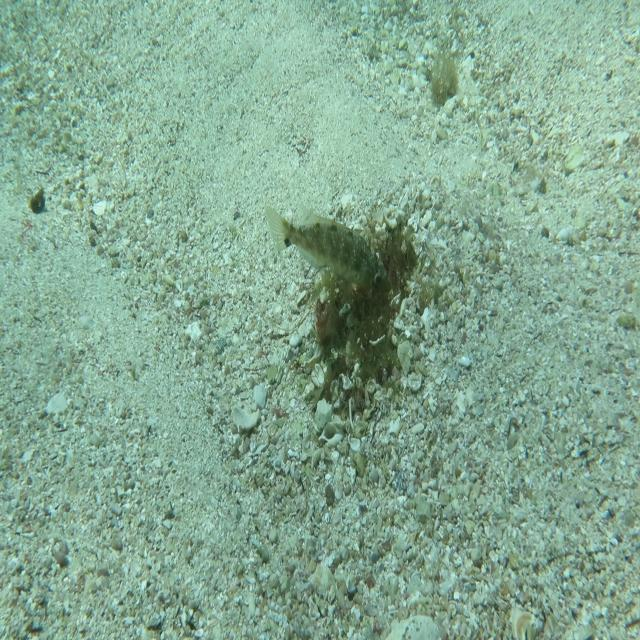NIP_CORE: (263, 200, 385, 300)
nest: (303, 208, 433, 416)
vegetation: (426, 50, 459, 110), (29, 183, 49, 214)
